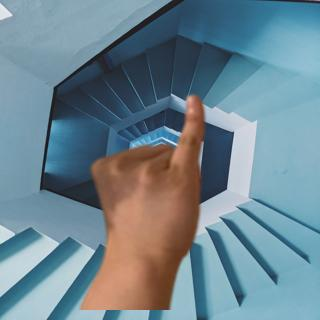FINE: (88, 90, 210, 264)
